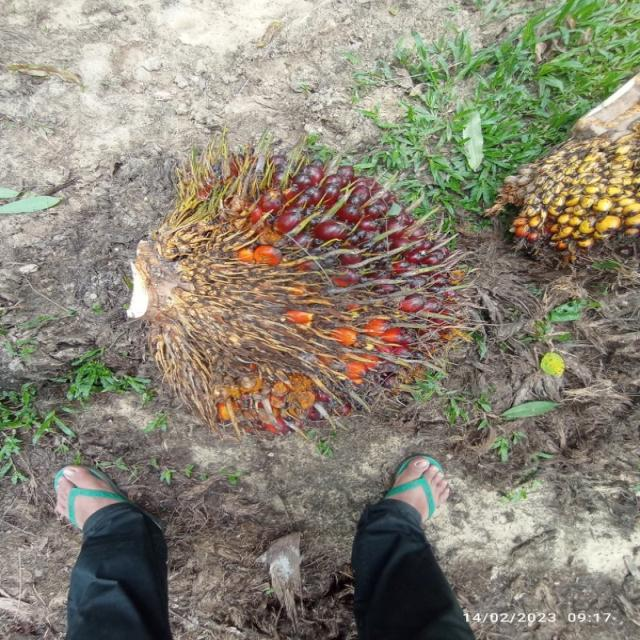fraksi 1: (124, 130, 495, 487)
